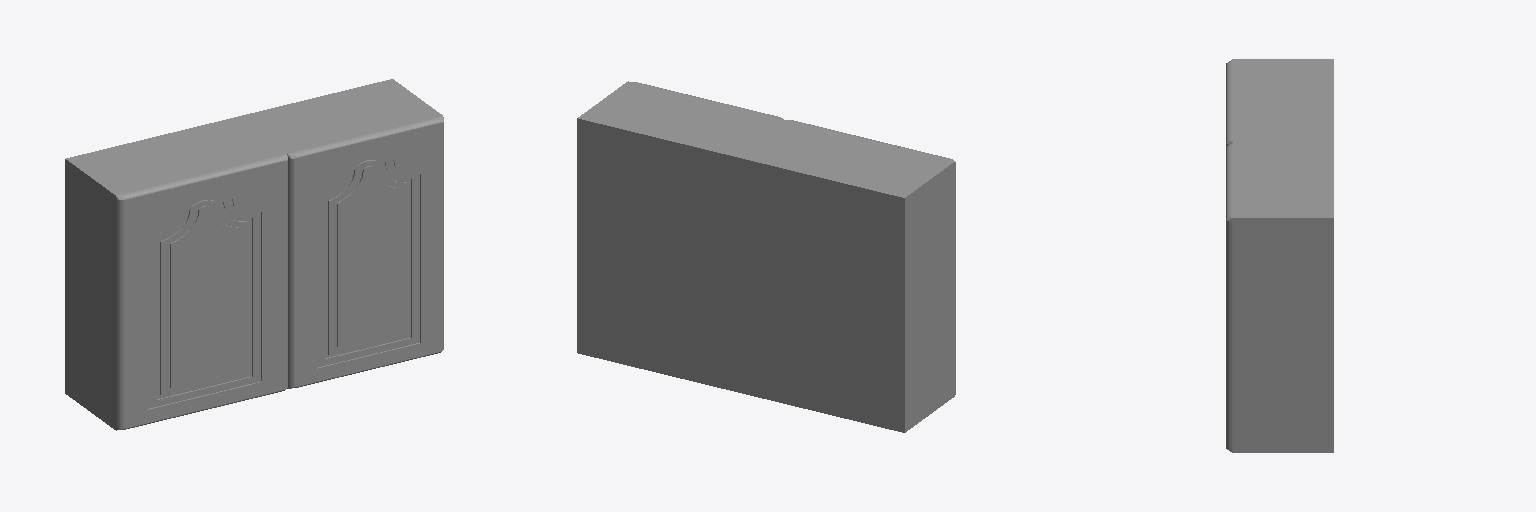
The model's file is double-wall-unit-1050.obj.
3 renders of one model, left to right at view 1: azimuth 30°, elevation 25°; view 2: azimuth 150°, elevation 25°; view 3: azimuth 270°, elevation 25°, orthographic.
Visible parts, largest first — view 1: Cube.003_Cube.008, Cube.004_Cube.000, Cube_Cube.002, Cube.002_Cube.004; view 2: Cube_Cube.002, Cube.002_Cube.004, Cube.001_Cube.003; view 3: Cube.001_Cube.003, Cube_Cube.002, Cube.004_Cube.000, Cube.003_Cube.008.
Boxes of the visible parts, <box> form: Cube.003_Cube.008: <box>116,154,287,430</box>; Cube.004_Cube.000: <box>287,116,443,388</box>; Cube_Cube.002: <box>70,80,437,193</box>; Cube.002_Cube.004: <box>65,158,119,429</box>; Cube_Cube.002: <box>582,83,949,431</box>; Cube.002_Cube.004: <box>900,160,954,432</box>; Cube.001_Cube.003: <box>577,82,631,353</box>; Cube.001_Cube.003: <box>1233,216,1333,452</box>; Cube_Cube.002: <box>1233,61,1333,215</box>; Cube.004_Cube.000: <box>1226,143,1232,452</box>; Cube.003_Cube.008: <box>1226,59,1232,146</box>.
Size of the model in its own units: 210 by 144 by 60.